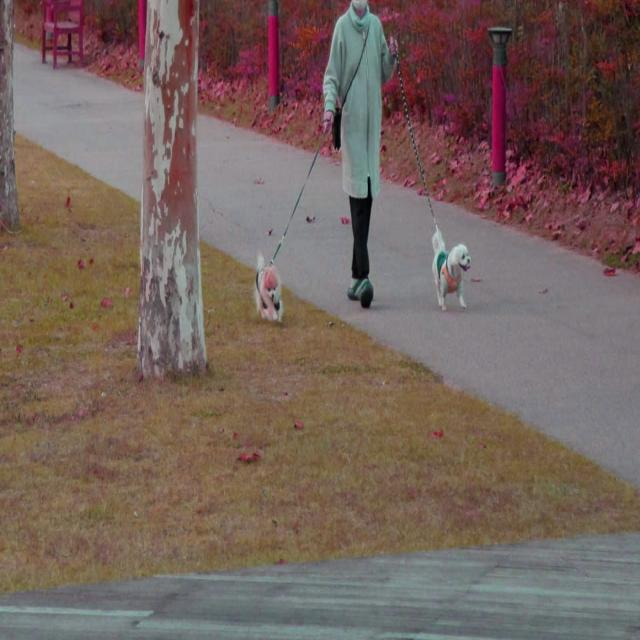Leashed_Dog: (370, 37, 471, 313), (255, 110, 352, 322)
